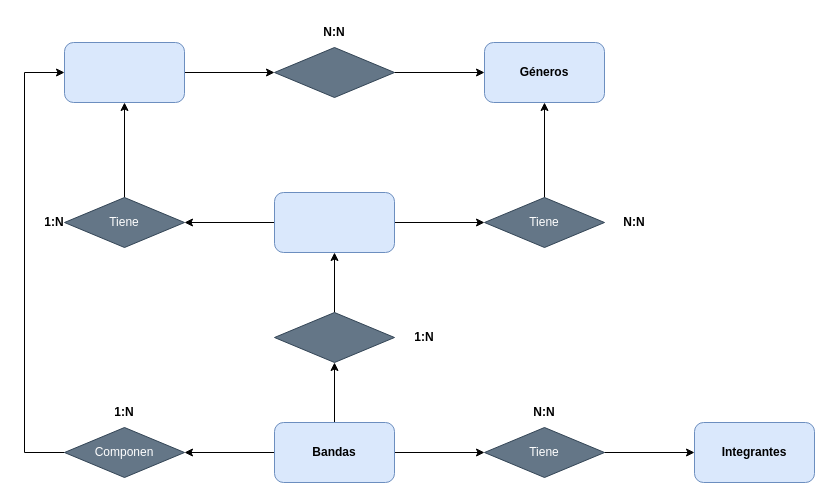
Image size: 832x500. Some labels were removed from this diagram. The centre of each missing label's shape, as x and y in pixels:
"Canciones" belongs at (x=124, y=72).
"Graban" belongs at (x=334, y=337).
"Pertenecen" belongs at (x=334, y=72).
"Álbumes" belongs at (x=334, y=222).
